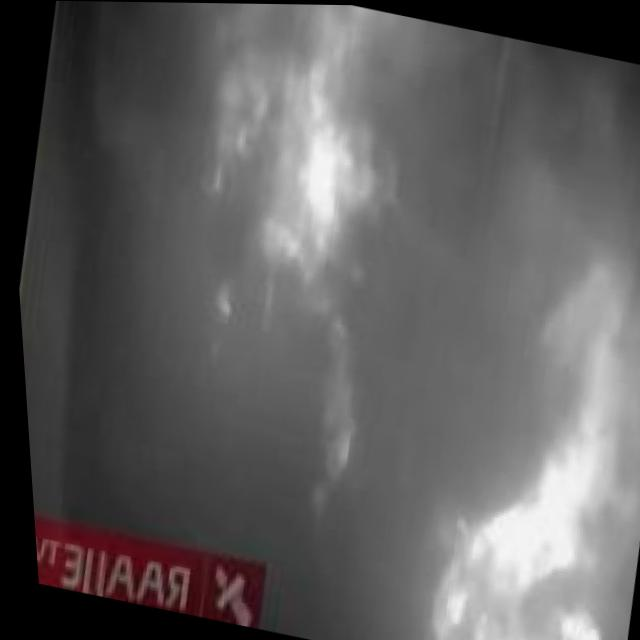fire: (123, 1, 464, 540), (365, 216, 640, 640)
